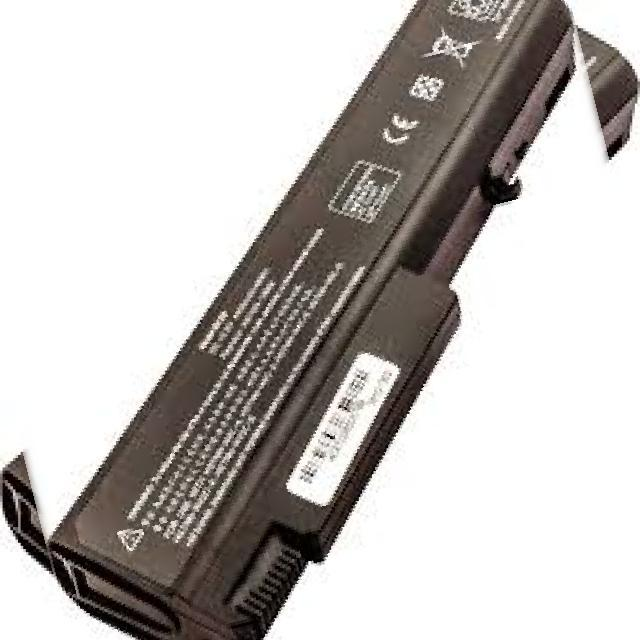Battery: (10, 0, 630, 638)
